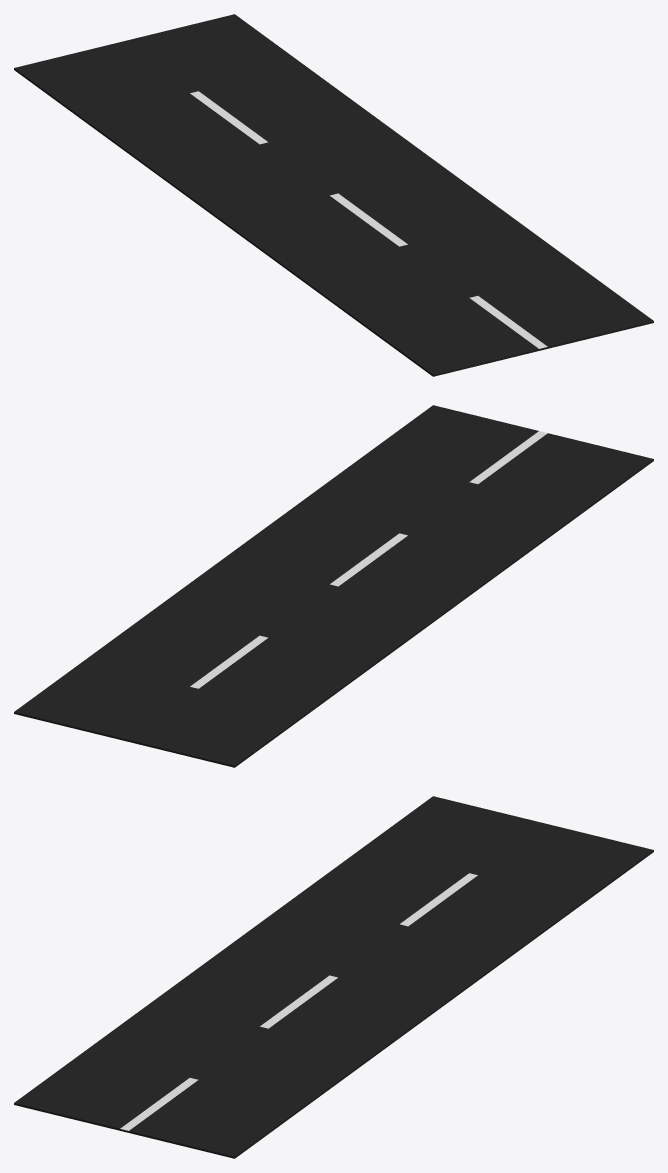
The model's file is airport-runway-straight.glb.
3 views of the same model, one above another, from view 1: azimuth 30°, elevation 25°; view 2: azimuth 150°, elevation 25°; view 3: azimuth 330°, elevation 25° (orthographic).
Parts seen in each view (by area): view 1: LandingTrack1Straight_AIRPORT_0; view 2: LandingTrack1Straight_AIRPORT_0; view 3: LandingTrack1Straight_AIRPORT_0.
Part boxes in pixels (box(x1,y1,x2,y2)): LandingTrack1Straight_AIRPORT_0: box(14, 14, 653, 376); LandingTrack1Straight_AIRPORT_0: box(14, 405, 653, 767); LandingTrack1Straight_AIRPORT_0: box(14, 796, 653, 1158).
Bounding box in the file's own units: 81.9 × 0.7001 × 269.
Materials: 1 (1 with a texture image).
